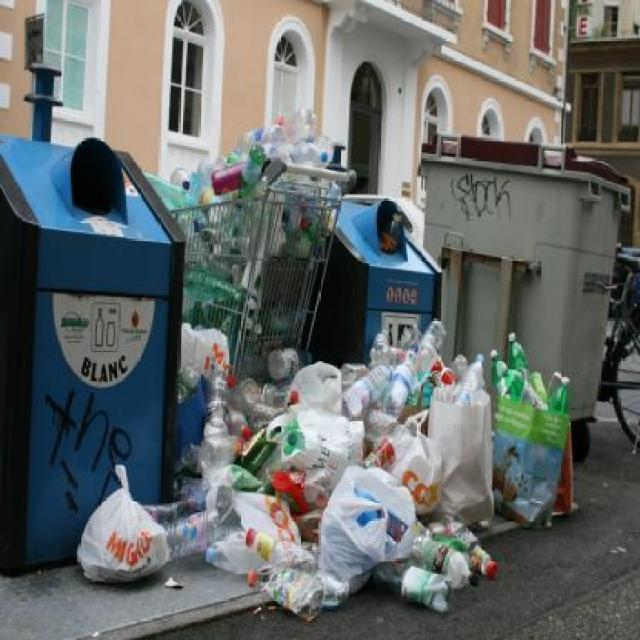plastic bag: (317, 461, 417, 594), (74, 460, 169, 582), (264, 400, 362, 492), (382, 412, 442, 512), (288, 358, 343, 416), (177, 321, 231, 377)
